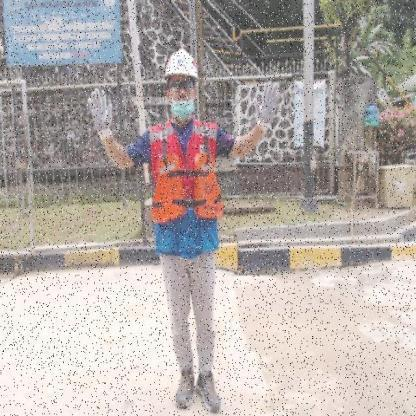boots: (195, 372, 222, 416), (173, 368, 196, 408)
gloves: (86, 88, 114, 144), (252, 81, 280, 133)
goggles: (168, 80, 196, 92)
helmet: (163, 47, 201, 81)
mask: (170, 99, 195, 122)
vest: (150, 150, 225, 224)
